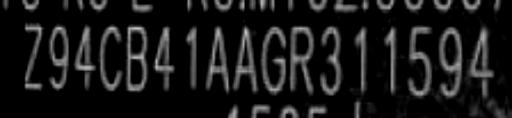letter: (285, 20, 317, 96), (466, 22, 498, 98), (404, 24, 436, 98), (258, 22, 288, 98), (434, 24, 464, 98), (70, 22, 100, 94), (230, 24, 260, 96), (150, 22, 178, 96), (204, 22, 232, 96), (18, 20, 46, 92), (96, 22, 124, 94), (318, 22, 344, 96), (124, 22, 150, 96), (46, 23, 70, 91), (350, 24, 372, 96), (379, 22, 399, 96), (183, 22, 201, 94)
